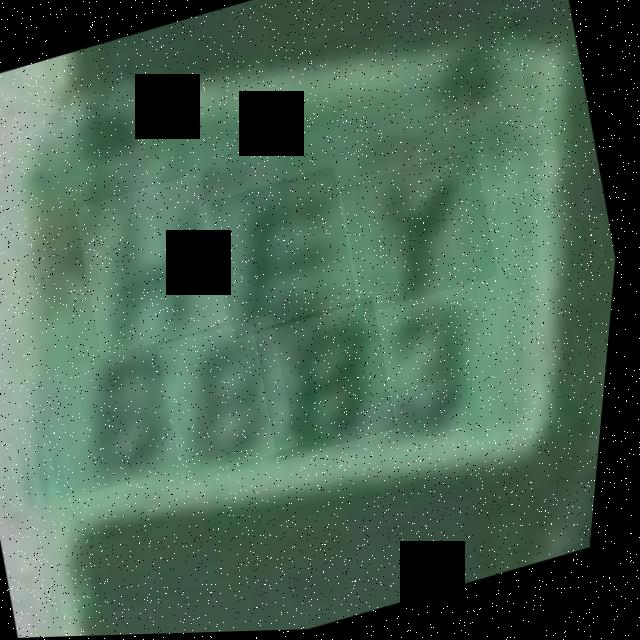8: (250, 296, 414, 466), (154, 314, 313, 482)
E: (204, 167, 374, 342)
H: (68, 173, 244, 359)
Y: (335, 149, 512, 317)
